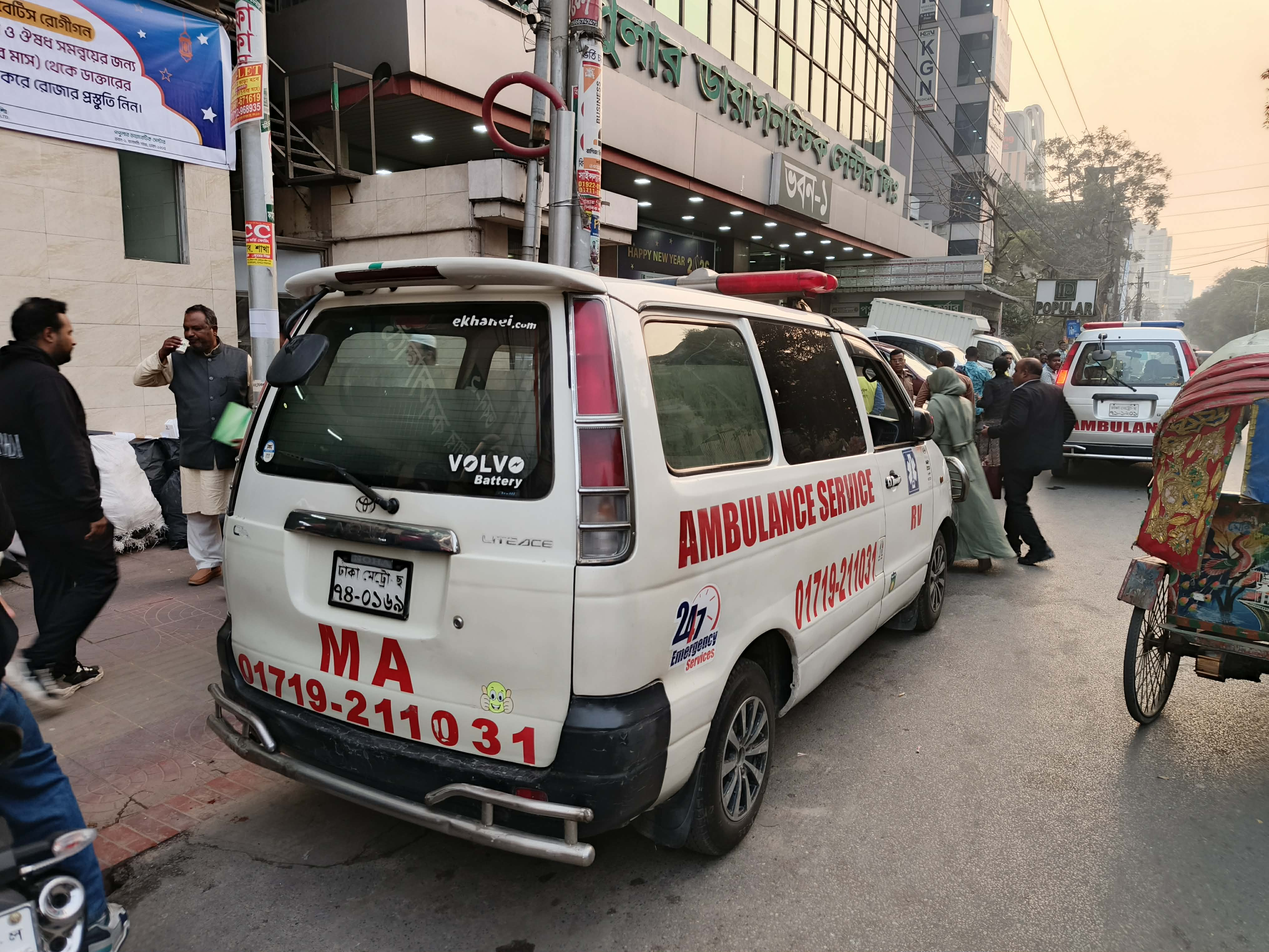Ambulance: (165, 210, 998, 879)
